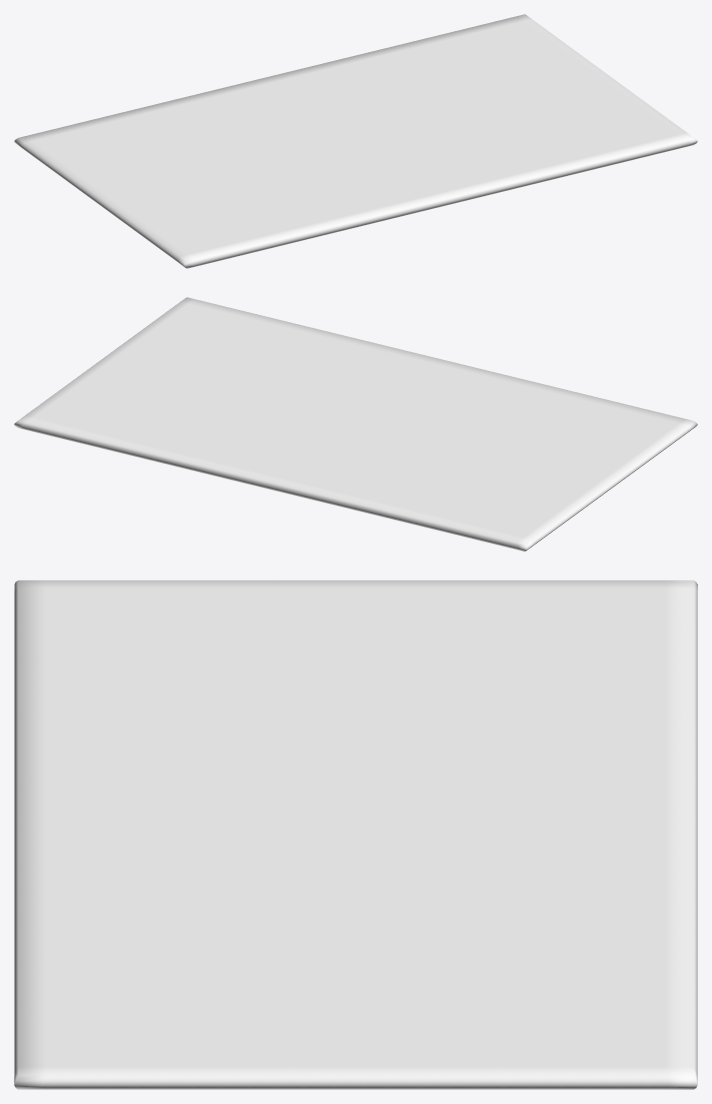
Rendered from Towel V1.fbx.
3 renders of one model, top to bottom at view 1: azimuth 30°, elevation 25°; view 2: azimuth 150°, elevation 25°; view 3: azimuth 270°, elevation 25°, orthographic. The views are drawn at different scales.
Parts seen in each view (by area): view 1: Cube; view 2: Cube; view 3: Cube.
Boxes of the visible parts, left/top/right/bottom form: Cube: left=14, top=14, right=697, bottom=268; Cube: left=14, top=297, right=697, bottom=551; Cube: left=14, top=580, right=697, bottom=1089.
Bounding box in the file's own units: 351 × 4.79 × 202.
Materials: 1 (1 with a texture image).
